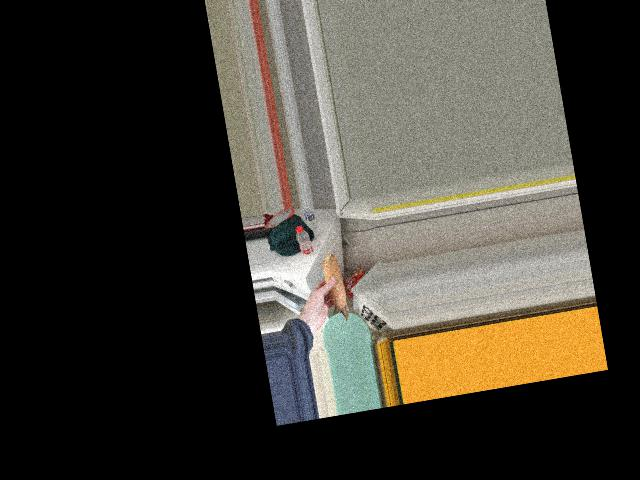sweet_potato: (319, 258, 348, 319)
